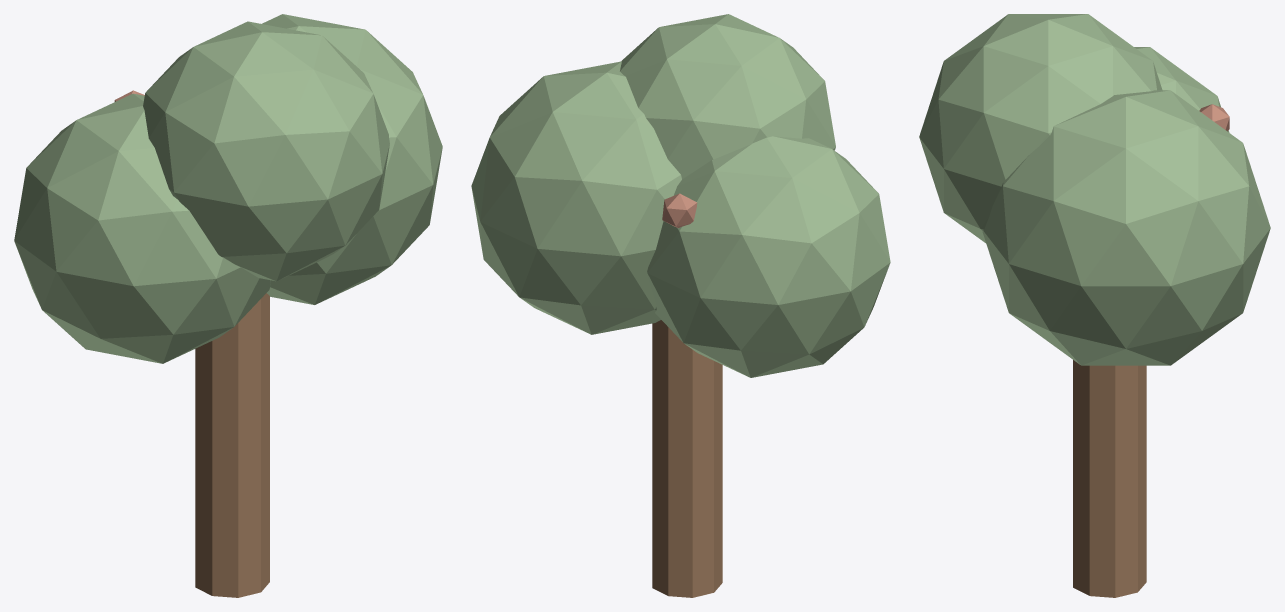
File: apple-tree.glb
3 renders of one model, left to right at view 1: azimuth 30°, elevation 25°; view 2: azimuth 150°, elevation 25°; view 3: azimuth 270°, elevation 25°, orthographic. The views are drawn at different scales.
Parts seen in each view (by area): view 1: Leaf crown.002, Leaf crown, Orchard trunk, Leaf crown.001; view 2: Leaf crown, Leaf crown.001, Leaf crown.002, Orchard trunk, Apple.003; view 3: Leaf crown.001, Leaf crown.002, Orchard trunk, Leaf crown.
Boxes of the visible parts, <box> form: Leaf crown.002: <box>143,21,389,281</box>; Leaf crown: <box>14,93,270,363</box>; Orchard trunk: <box>195,293,269,597</box>; Leaf crown.001: <box>262,14,442,304</box>; Leaf crown: <box>647,136,890,377</box>; Leaf crown.001: <box>471,61,681,334</box>; Leaf crown.002: <box>620,14,835,179</box>; Orchard trunk: <box>652,320,722,597</box>; Apple.003: <box>662,193,697,227</box>; Leaf crown.001: <box>982,90,1270,365</box>; Leaf crown.002: <box>919,14,1162,242</box>; Orchard trunk: <box>1073,360,1146,597</box>; Leaf crown: <box>1134,47,1229,132</box>.
Size of the model in its own units: 2.59 by 3.6 by 2.04.
